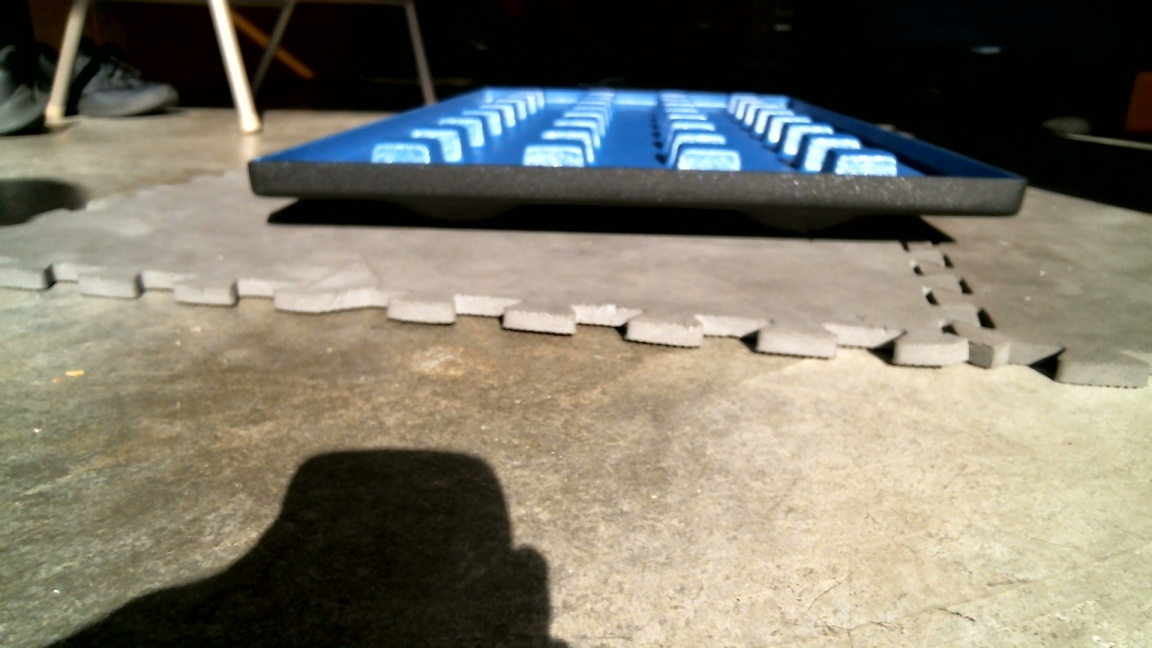blue_foundation: (248, 86, 1031, 244)
